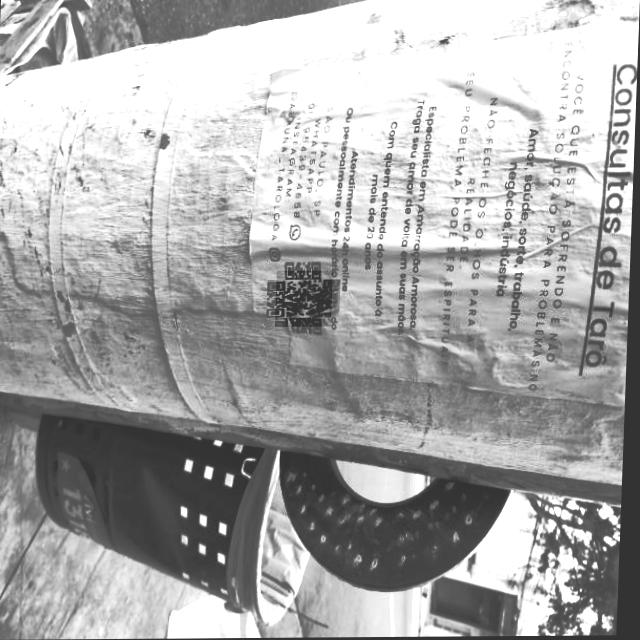qr_code: (276, 271, 334, 327)
